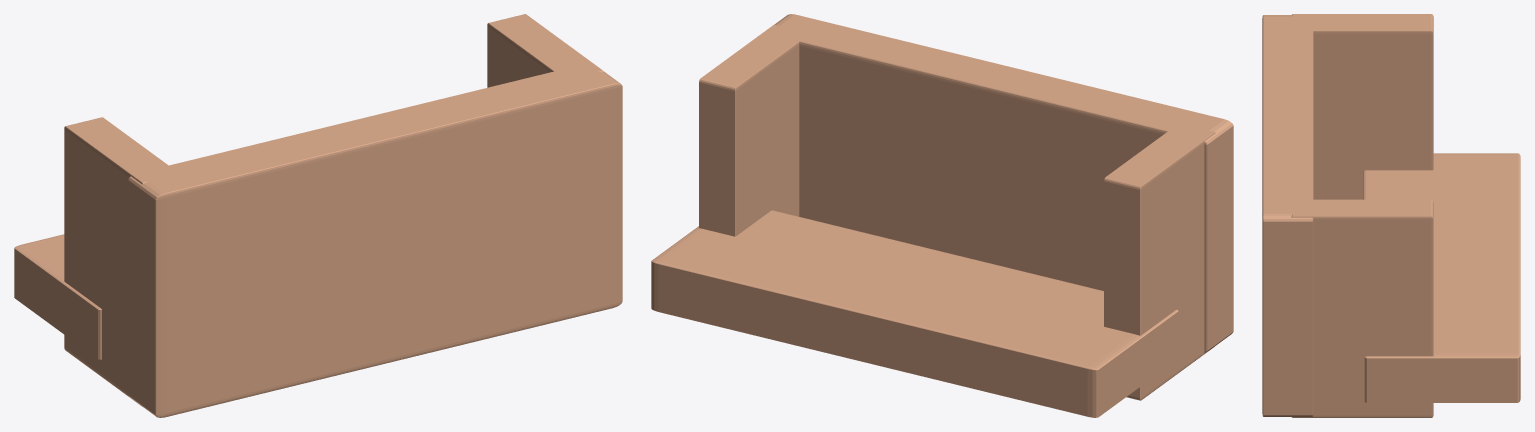
File: sofa.glb
3 renders of one model, left to right at view 1: azimuth 30°, elevation 25°; view 2: azimuth 150°, elevation 25°; view 3: azimuth 270°, elevation 25°, orthographic. The views are drawn at different scales.
Parts seen in each view (by area): view 1: base, arm_l, back, arm_r; view 2: base, back, arm_l, arm_r; view 3: back, arm_r, arm_l, base.
Boxes of the visible parts, bbox=[...] form: base: bbox=[128, 64, 622, 417]; arm_l: bbox=[64, 117, 179, 406]; back: bbox=[14, 234, 101, 359]; arm_r: bbox=[487, 14, 603, 87]; base: bbox=[770, 14, 1233, 352]; back: bbox=[651, 210, 1178, 417]; arm_l: bbox=[1104, 123, 1215, 400]; arm_r: bbox=[699, 24, 808, 236]; back: bbox=[1363, 153, 1520, 402]; arm_r: bbox=[1291, 199, 1433, 417]; arm_l: bbox=[1292, 14, 1433, 199]; base: bbox=[1262, 15, 1313, 416].
Bounding box in the file's own units: 1.7 × 0.78 × 0.905.
